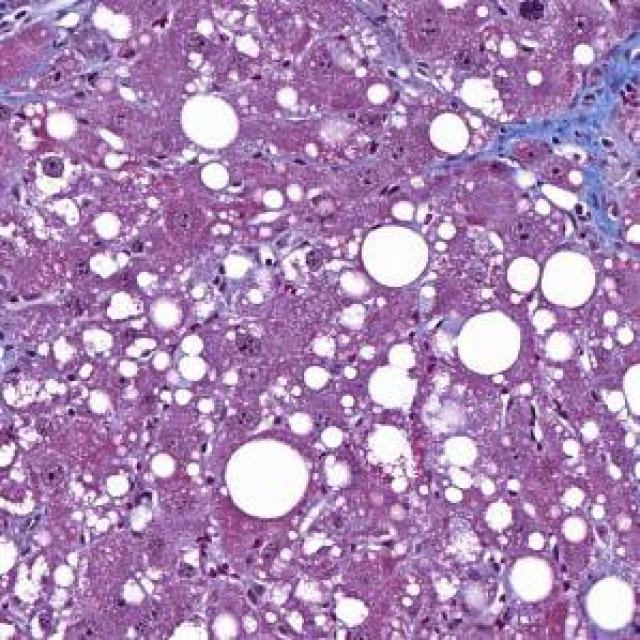fibrosis: (490, 41, 640, 233)
